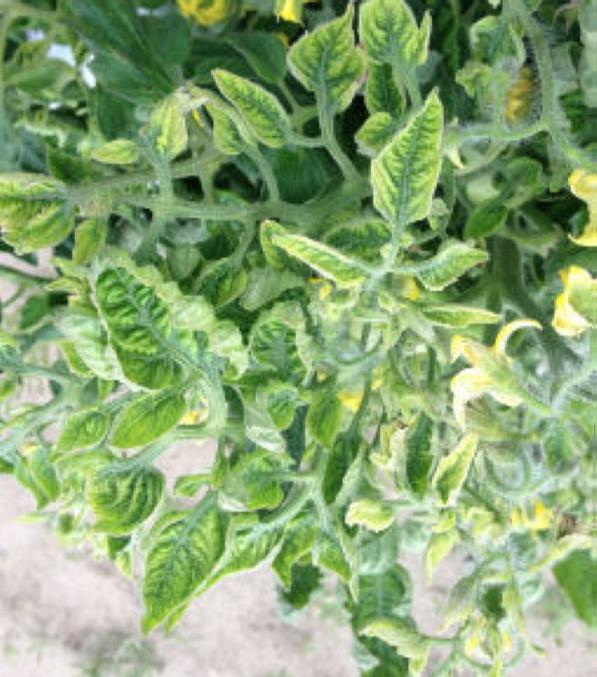Tomato leaf yellow virus: (77, 232, 258, 396), (118, 504, 231, 641), (361, 90, 465, 233), (229, 294, 340, 384), (91, 366, 203, 455), (353, 0, 472, 83), (0, 147, 89, 254), (207, 60, 301, 150), (289, 12, 374, 108), (445, 331, 559, 398)
